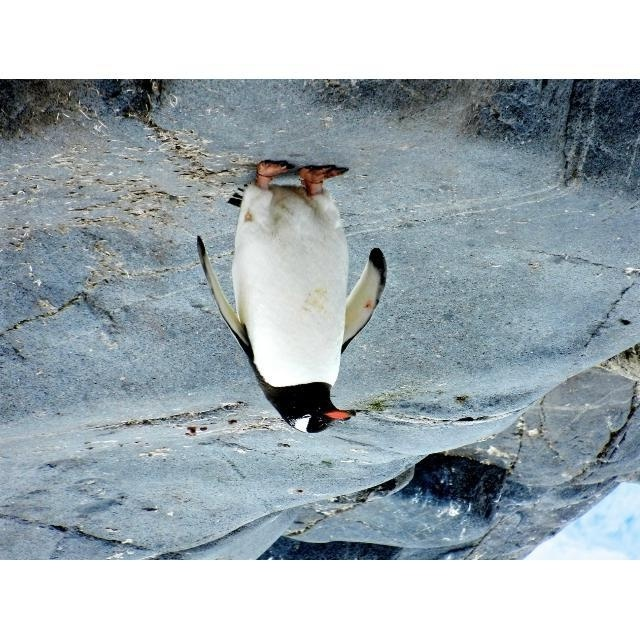penguin: (197, 159, 389, 436)
